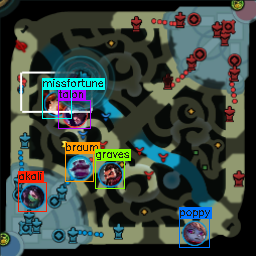akali: (20, 184, 44, 208)
braum: (66, 154, 91, 179)
graves: (98, 162, 122, 187)
missfortune: (43, 90, 67, 115)
poppy: (182, 221, 206, 245)
talon: (62, 102, 86, 126)
taric: (66, 69, 89, 94)
